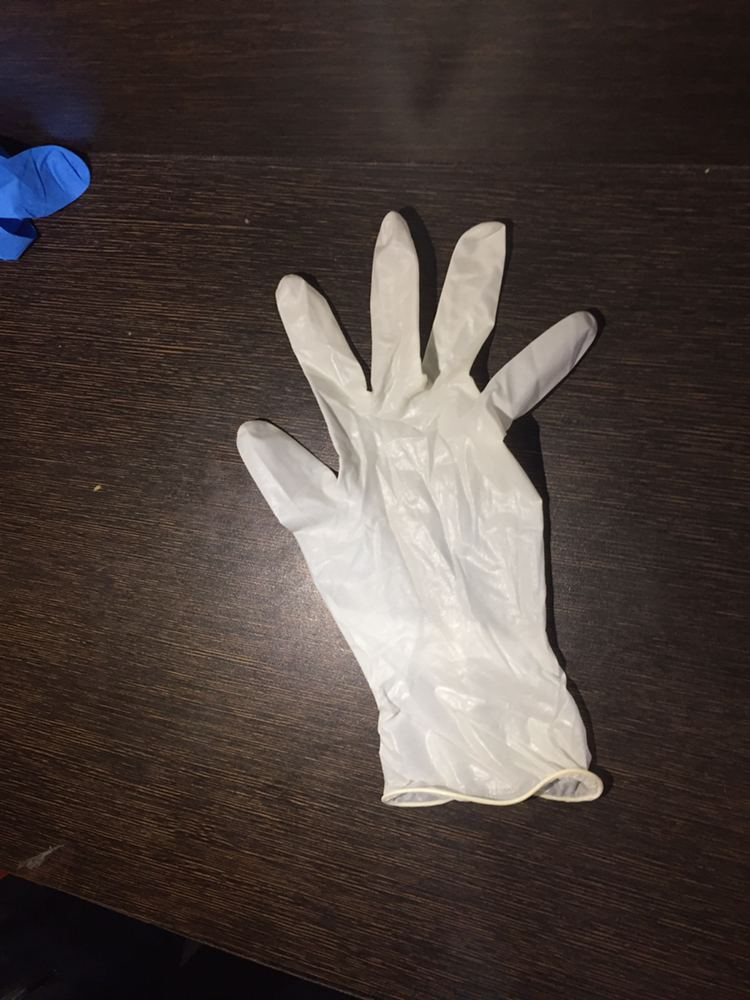glove: (200, 201, 648, 768)
